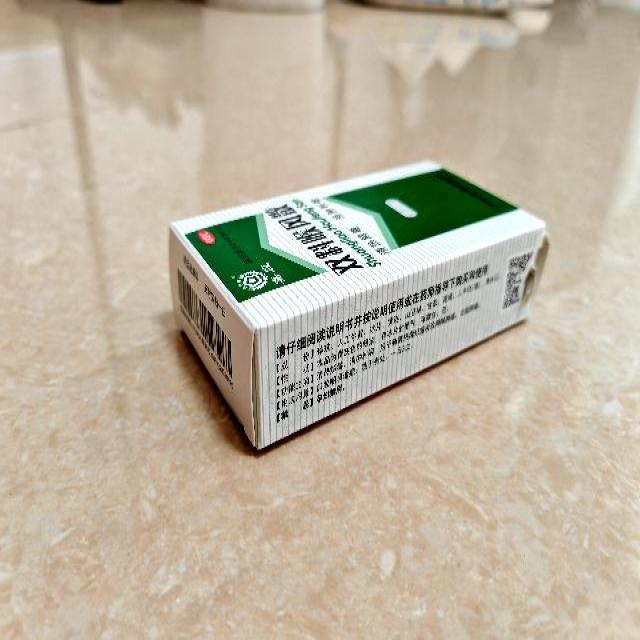box: (168, 160, 546, 451)
